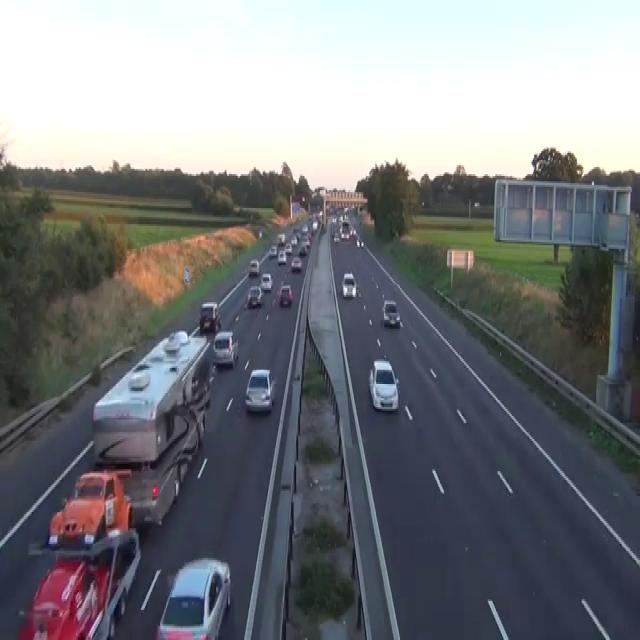Car: (47, 470, 132, 550), (156, 556, 231, 638), (368, 358, 400, 412), (244, 368, 276, 412), (212, 331, 238, 366), (199, 300, 221, 332), (382, 299, 400, 327), (341, 272, 357, 299), (247, 284, 262, 308), (278, 282, 292, 306), (260, 272, 272, 292), (248, 258, 259, 276), (290, 256, 301, 272), (277, 249, 286, 265), (268, 244, 277, 258), (301, 238, 310, 249), (284, 242, 292, 254), (298, 244, 306, 256), (340, 231, 349, 240), (277, 233, 285, 243), (356, 237, 364, 247), (290, 235, 297, 245), (333, 231, 339, 242), (446, 182, 454, 190), (301, 224, 308, 233), (233, 204, 240, 213), (312, 221, 318, 231), (350, 226, 356, 236), (356, 286, 361, 297), (318, 210, 323, 220), (343, 206, 349, 214), (331, 215, 336, 224), (356, 238, 360, 247), (258, 230, 262, 238), (474, 201, 480, 206), (360, 240, 364, 247)
Truck: (92, 329, 214, 467), (16, 526, 141, 638)
